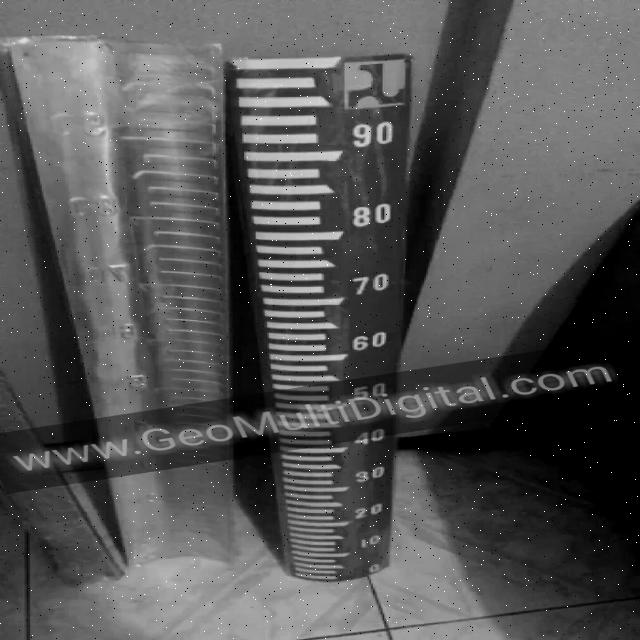10: (356, 534, 384, 550)
20: (352, 500, 384, 521)
30: (354, 464, 388, 484)
60: (350, 330, 390, 352)
70: (350, 273, 394, 297)
80: (350, 200, 397, 229)
90: (348, 120, 398, 149)
staff: (230, 57, 411, 587)
